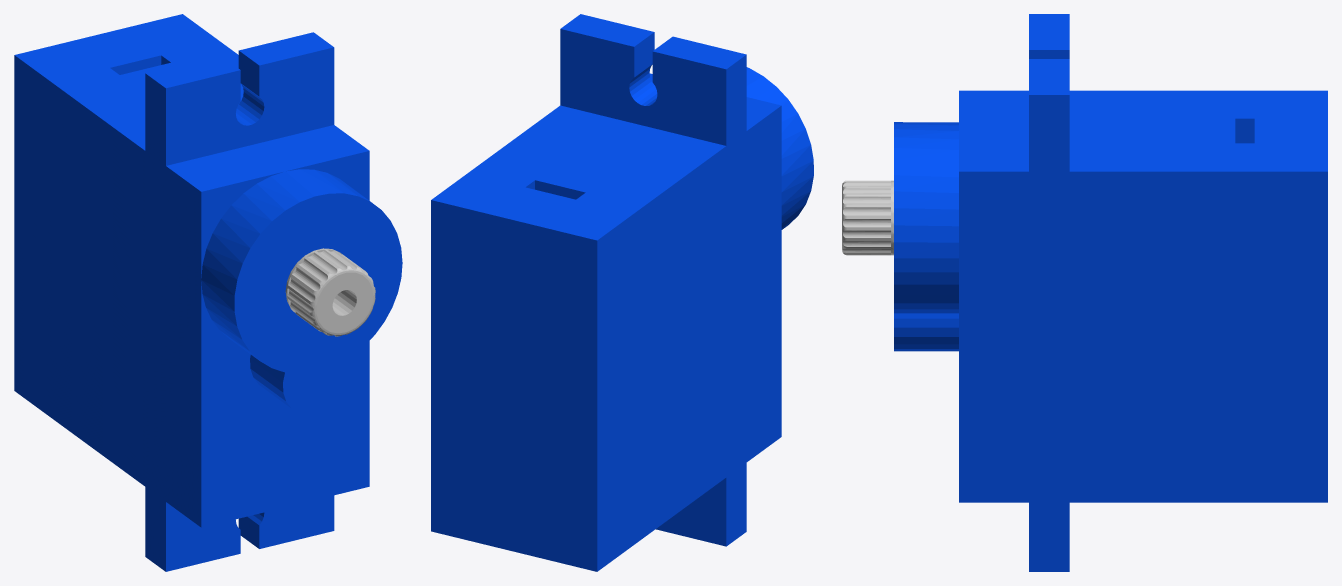
The picture shows the model from 3 angles, left to right: view 1: azimuth 30°, elevation 25°; view 2: azimuth 150°, elevation 25°; view 3: azimuth 270°, elevation 25°; orthographic projection.
Parts seen in each view (by area): view 1: part0, part1; view 2: part0; view 3: part0, part1.
Part boxes in pixels (<box>): part0: <box>14,14,402,571</box>; part1: <box>285,248,375,336</box>; part0: <box>431,14,813,571</box>; part0: <box>894,14,1327,571</box>; part1: <box>842,180,893,255</box>.
Size of the model in its own units: 0.0118 by 0.0324 by 0.0299.
